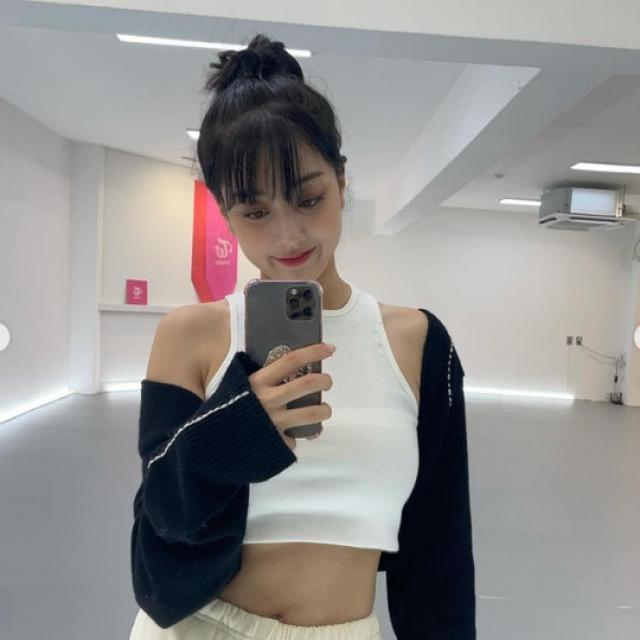phone: (245, 278, 322, 440)
